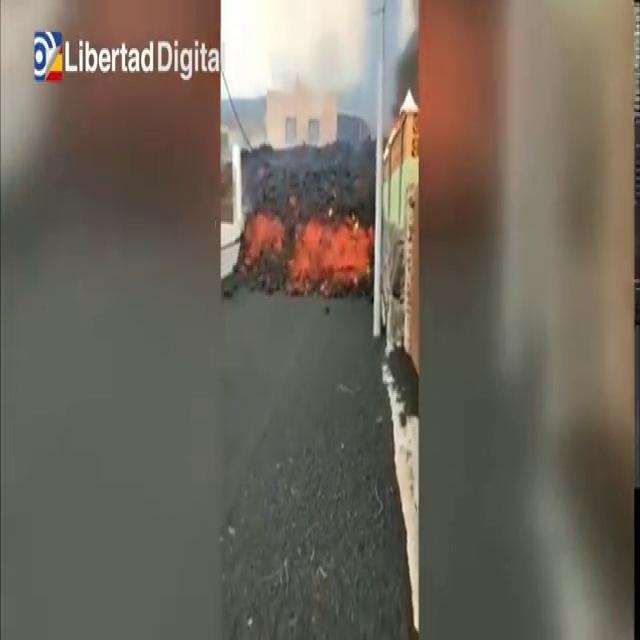Fire: (246, 199, 370, 293)
